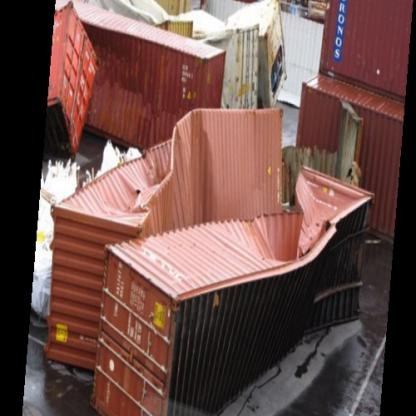Damage: (92, 103, 234, 247), (245, 168, 370, 287)
